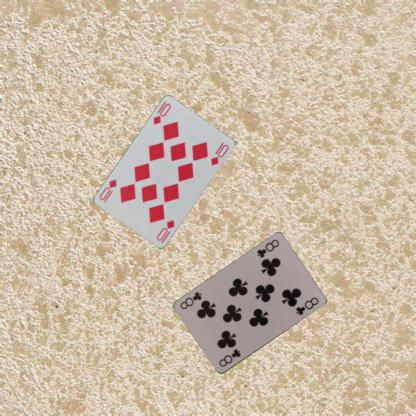10d: (154, 218, 176, 245), (150, 99, 172, 126)
8c: (254, 237, 280, 259), (216, 347, 242, 368)
